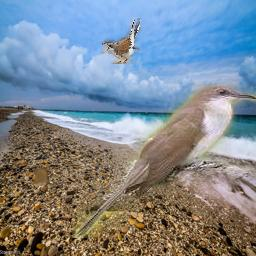Cuckoo: (72, 84, 256, 239), (103, 18, 142, 64)
